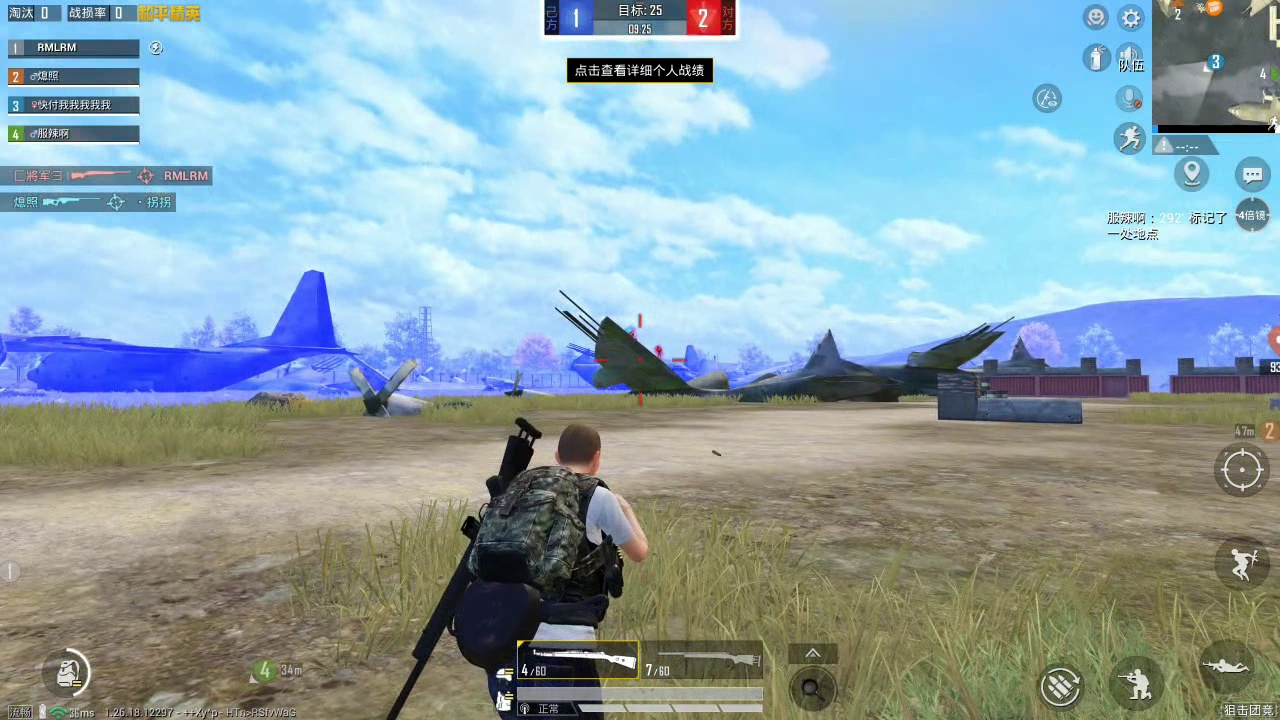enemy: (654, 344, 663, 360)
